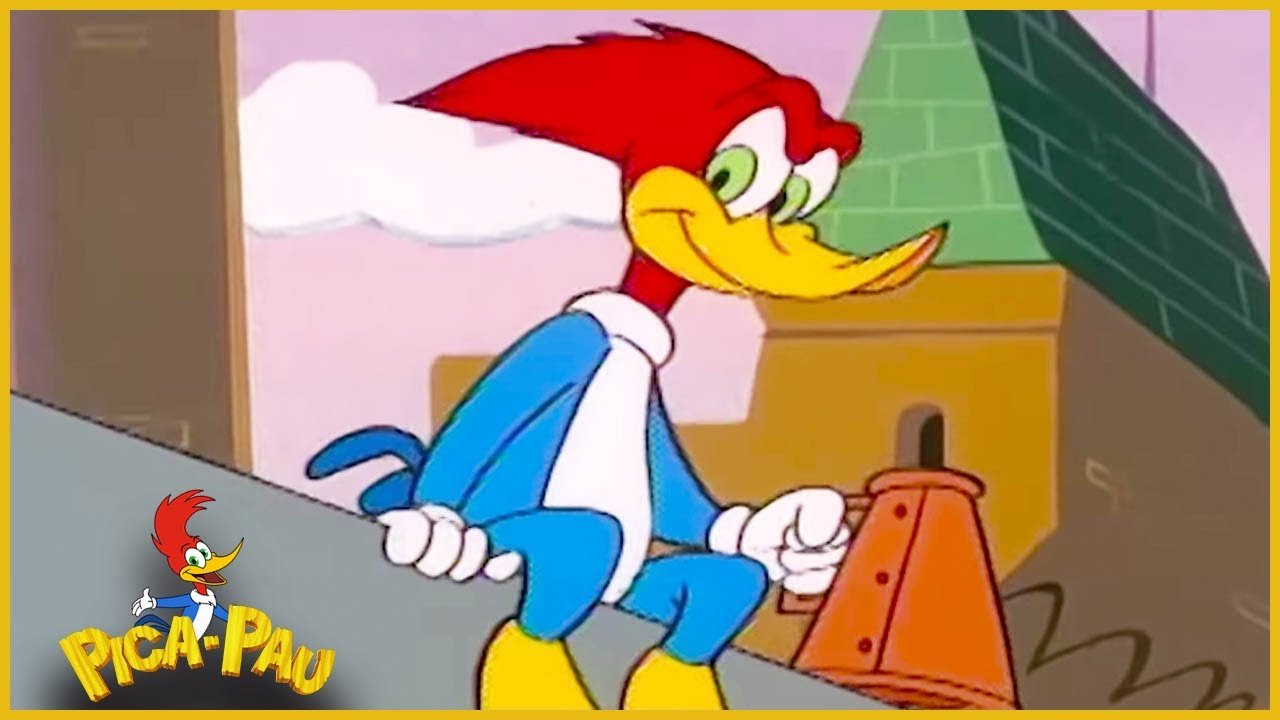picapau: (317, 19, 951, 720)
